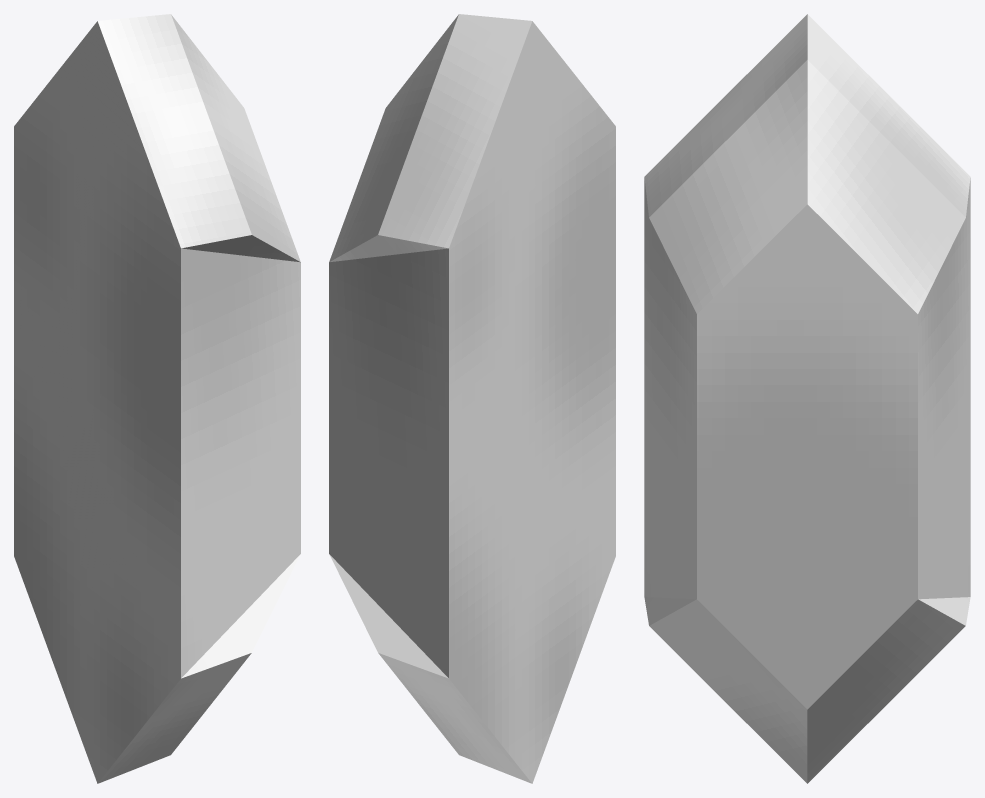
The model's file is gem.obj.
3 views of the same model, side by side, from view 1: azimuth 30°, elevation 25°; view 2: azimuth 150°, elevation 25°; view 3: azimuth 270°, elevation 25° (orthographic). The views are drawn at different scales.
Visible parts, largest first — view 1: Cube; view 2: Cube; view 3: Cube.
Part boxes in pixels (x1,y1,x2,y2): Cube: (14,14,300,783); Cube: (329,14,615,783); Cube: (644,14,970,783).
Bounding box in the file's own units: 1.05 × 5.24 × 2.08.
